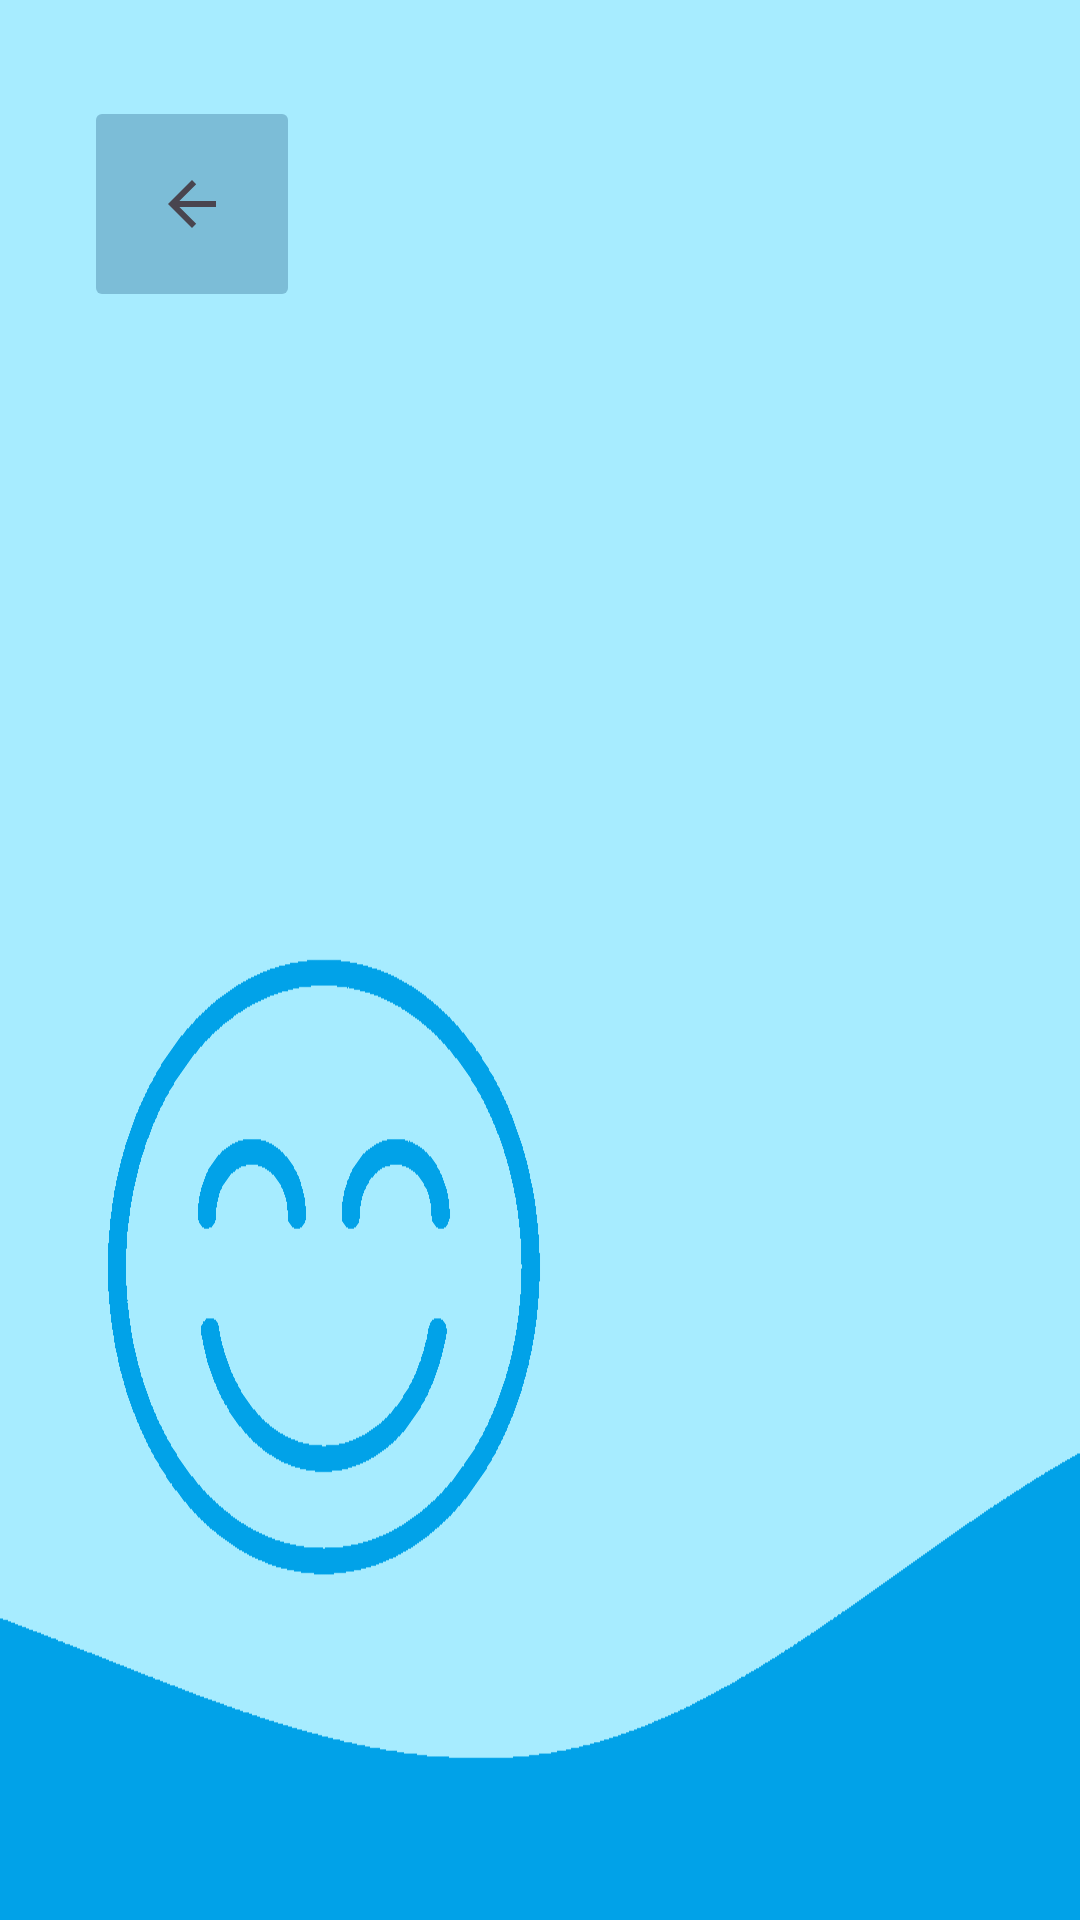

Screen size 1080px×1920px. Icon name, then its center in pixels as (x=x, y=y):
Voltar: (x=192, y=204)
